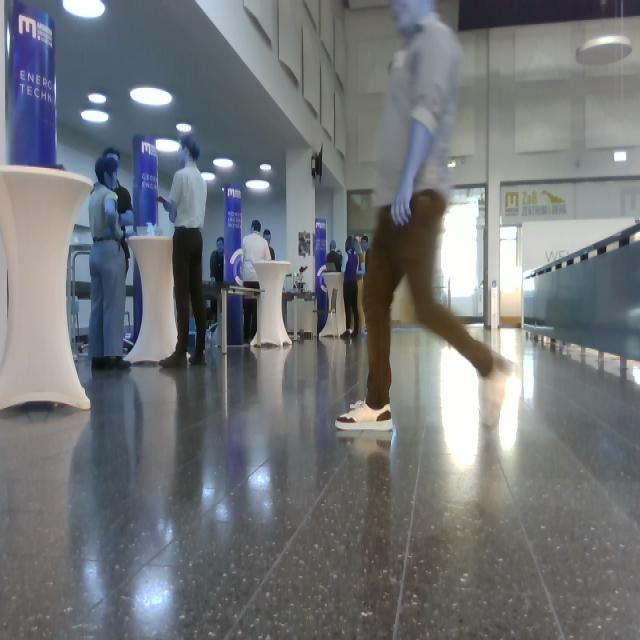door: (499, 224, 523, 326)
light bulb: (575, 1, 633, 66), (576, 35, 632, 67), (130, 87, 173, 107), (63, 1, 106, 20), (81, 109, 109, 124), (156, 138, 181, 153), (213, 157, 234, 169), (88, 92, 107, 105), (246, 180, 270, 190), (176, 122, 192, 133), (201, 172, 216, 181), (260, 164, 272, 172)
person: (335, 1, 514, 433), (156, 133, 208, 368), (88, 154, 132, 372), (242, 220, 272, 341), (210, 237, 225, 326)
staircase: (522, 220, 640, 381)
tiled floor: (1, 321, 639, 638)
